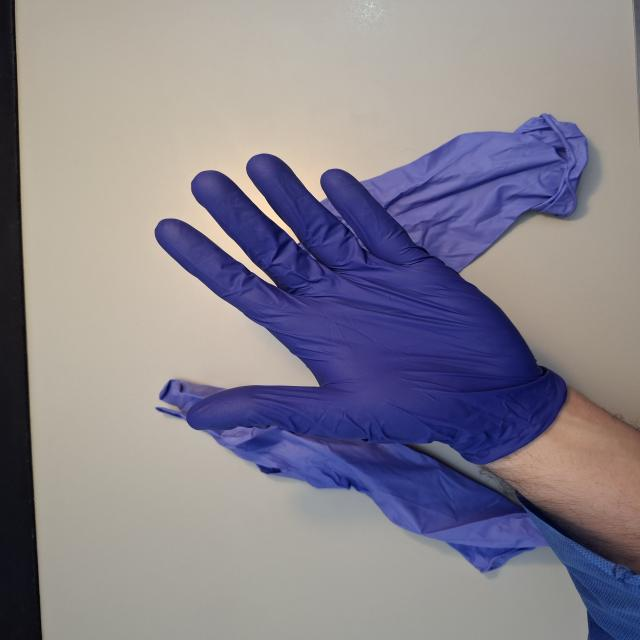glove_on: (152, 151, 553, 459)
